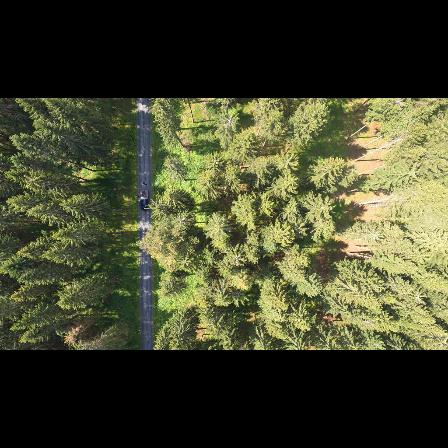Sick: (168, 207, 194, 234), (214, 110, 243, 134), (275, 150, 298, 174), (174, 250, 197, 274), (226, 245, 247, 270)
